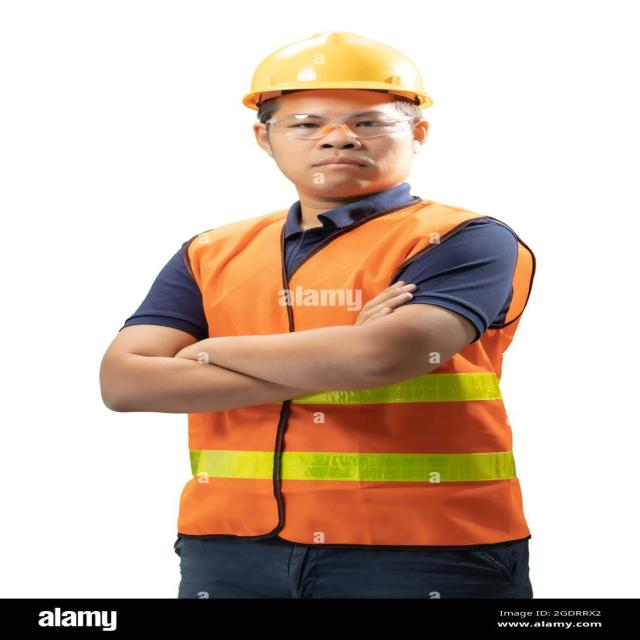goggles: (248, 109, 434, 143)
helmet: (239, 27, 428, 116)
vest: (166, 198, 551, 553)
